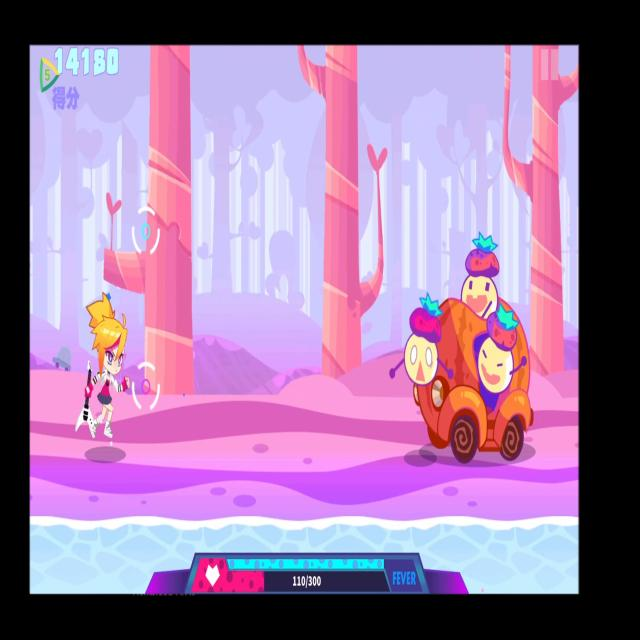Boss-Pumpkin: (409, 233, 535, 466)
